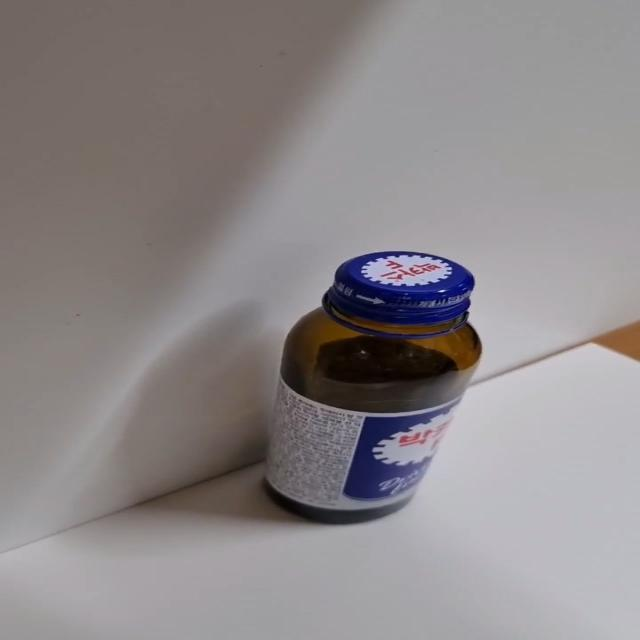Glass: (261, 251, 484, 528)
